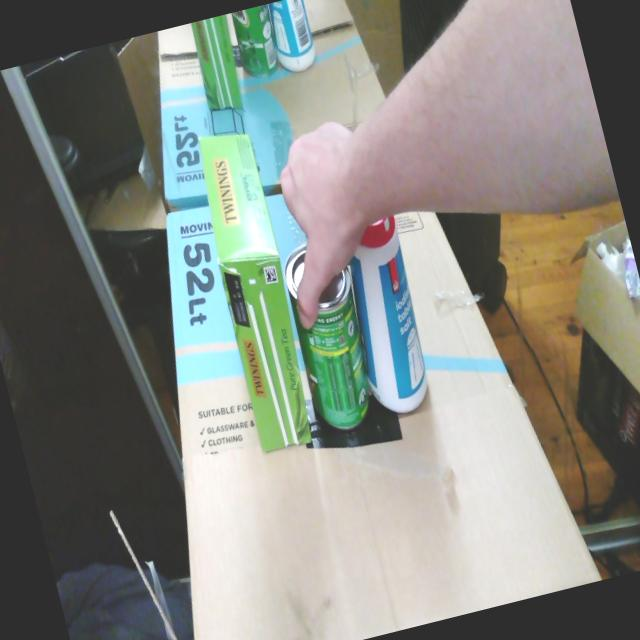nestle_milo_tin: (284, 244, 369, 430)
twinings_greentea_box: (199, 134, 311, 452)
woolworths_salt_bottle: (349, 214, 427, 413)
